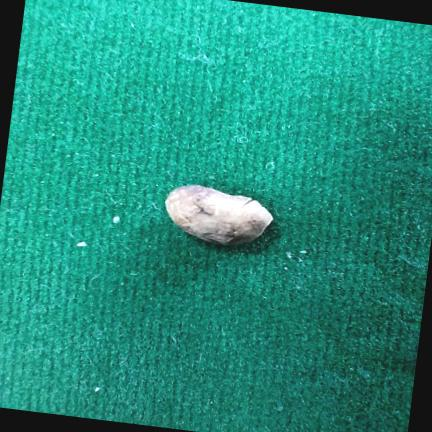shell: (166, 185, 272, 244)
